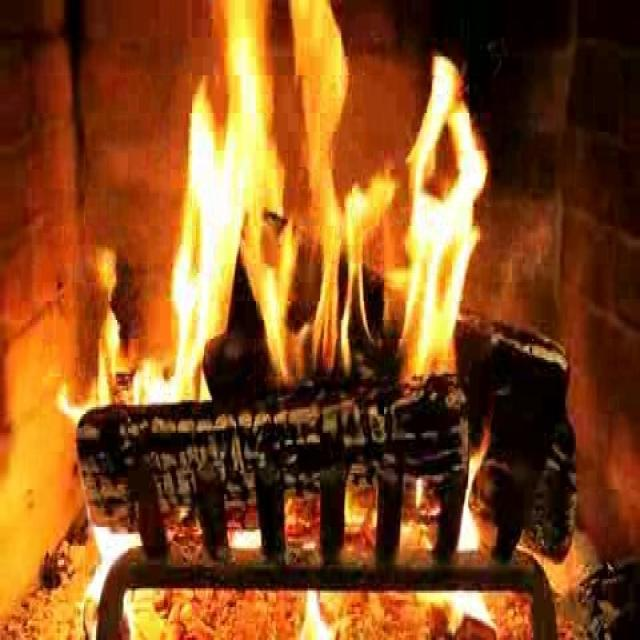Fire: (153, 7, 493, 425)
